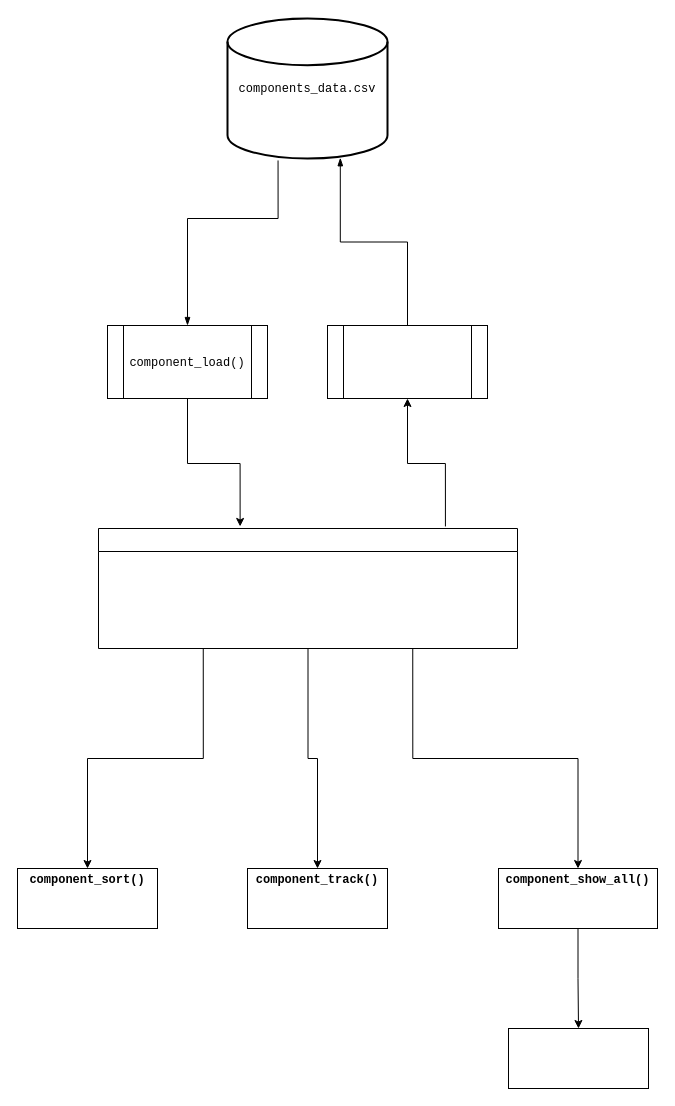
This 675x1106 diagram has some shape labels left out. The shapes that lost their labels are listed below. From the top down, each one's box as (x1, y1, x2, y2) in pixels, then its label:
(326, 324, 488, 398): components_save()
(98, 528, 518, 648): Memory (RAM)
(508, 1028, 648, 1088): component_show()
